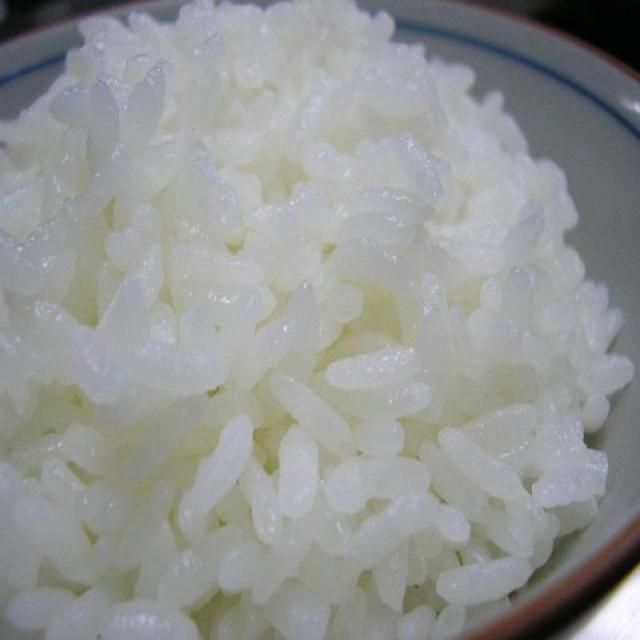nasi_putih: (3, 2, 632, 640)
